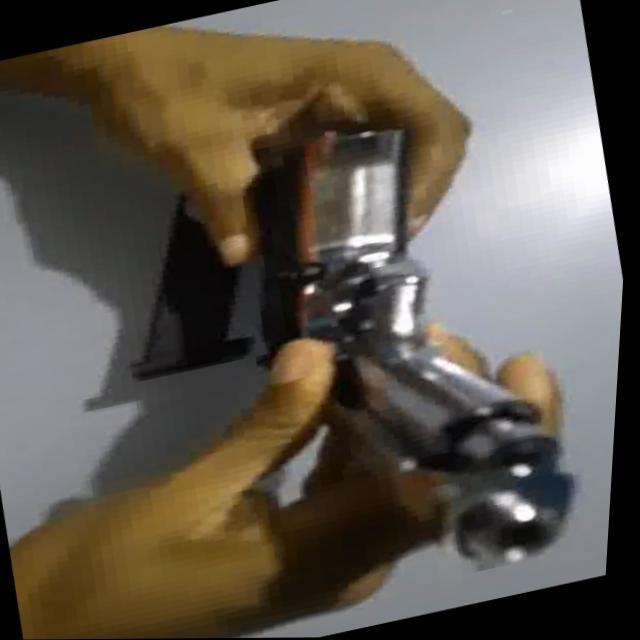weapon: (76, 70, 614, 639)
